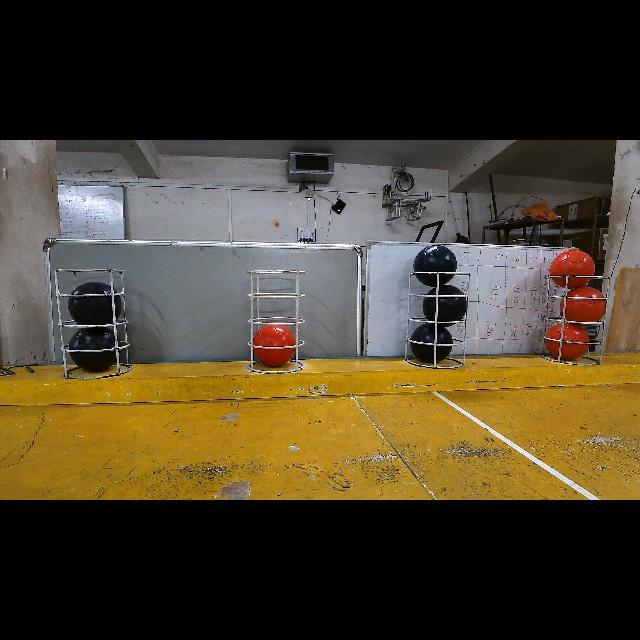P: (68, 281, 122, 325), (68, 328, 121, 372), (412, 245, 458, 288), (422, 284, 468, 326), (410, 322, 452, 364)
R: (252, 325, 296, 368), (550, 250, 595, 289), (545, 322, 590, 360), (560, 286, 606, 322)
S: (53, 264, 135, 378), (400, 268, 472, 366), (245, 264, 303, 376), (542, 268, 604, 364)
